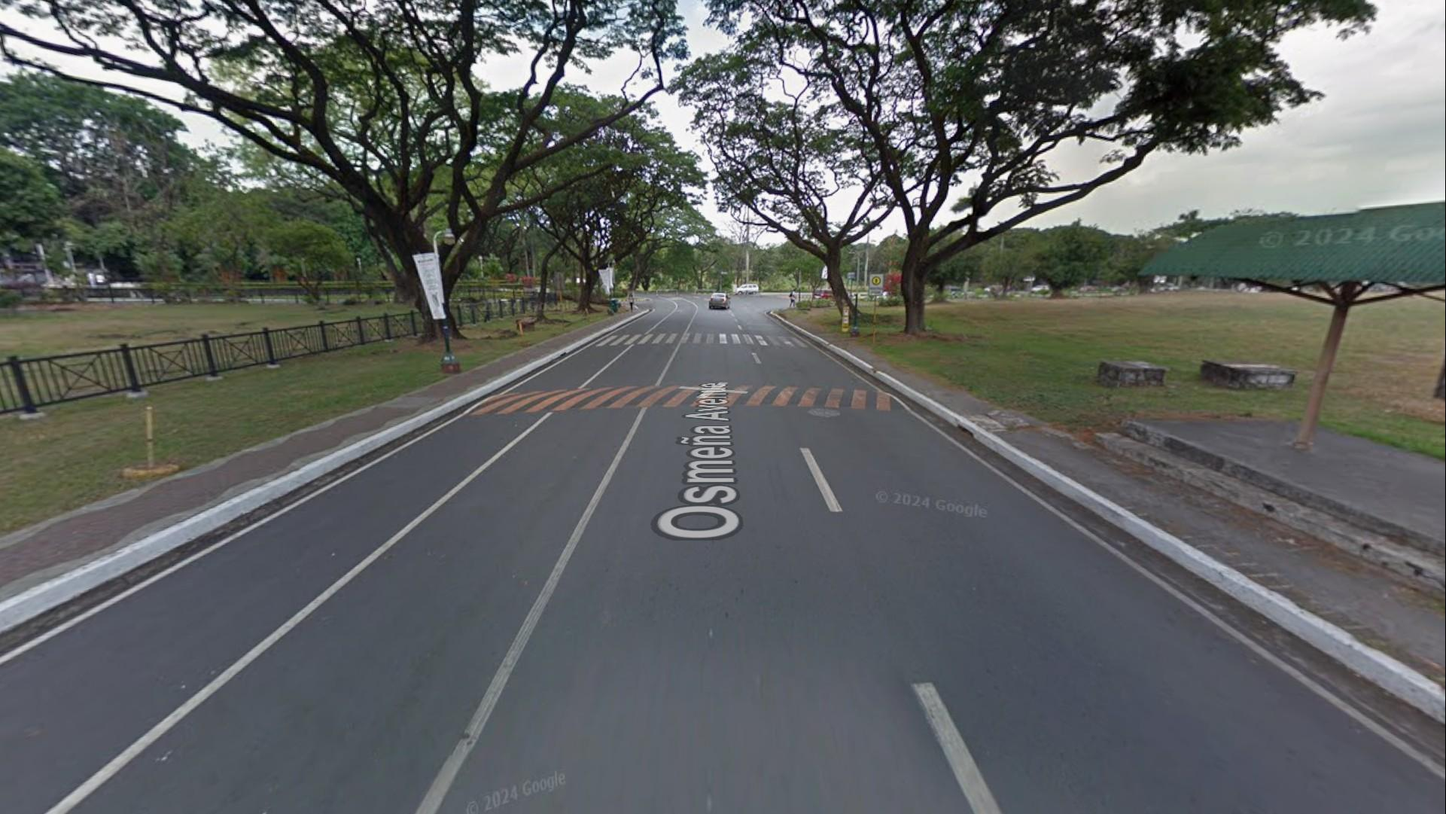pedestrian: (789, 288, 797, 308), (628, 291, 635, 312)
